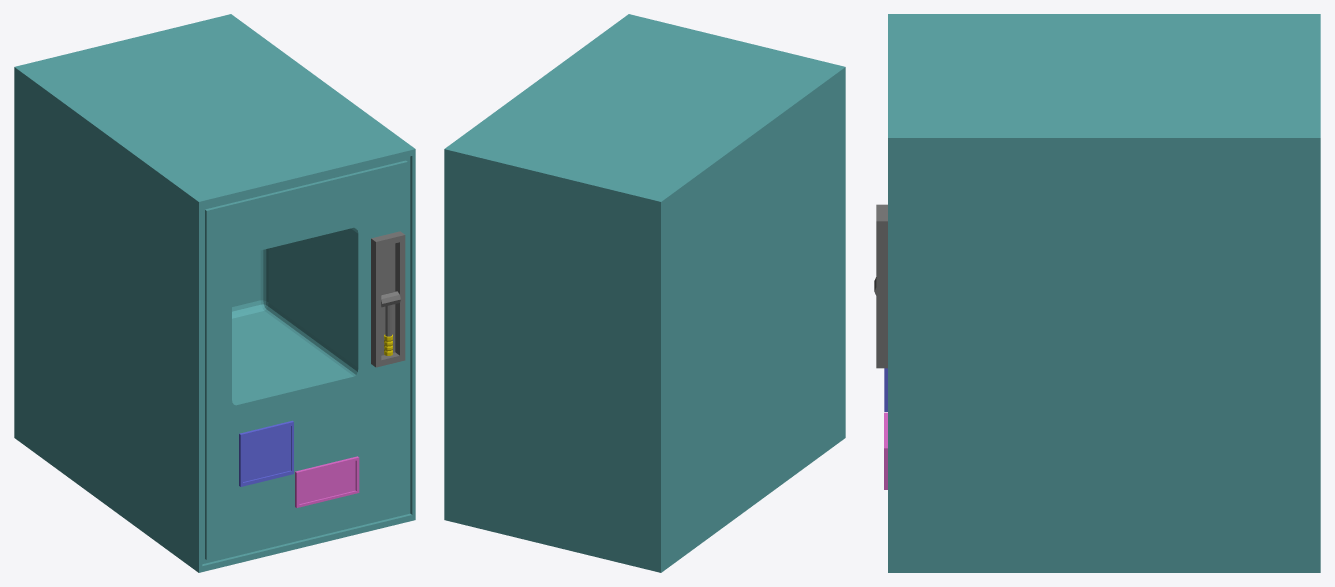
The model's file is Dispenser.fbx.
3 renders of one model, left to right at view 1: azimuth 30°, elevation 25°; view 2: azimuth 150°, elevation 25°; view 3: azimuth 270°, elevation 25°, orthographic. The views are drawn at different scales.
Parts seen in each view (by area): view 1: geo_shelfBase, geo_lockhandle; view 2: geo_shelfBase; view 3: geo_shelfBase.
Boxes of the visible parts, x1,y1,x2,y2 form: geo_shelfBase: (14,14,415,572); geo_lockhandle: (381,291,400,355); geo_shelfBase: (444,14,845,572); geo_shelfBase: (876,14,1320,572).
Size of the model in its own units: 143 by 233 by 217.
